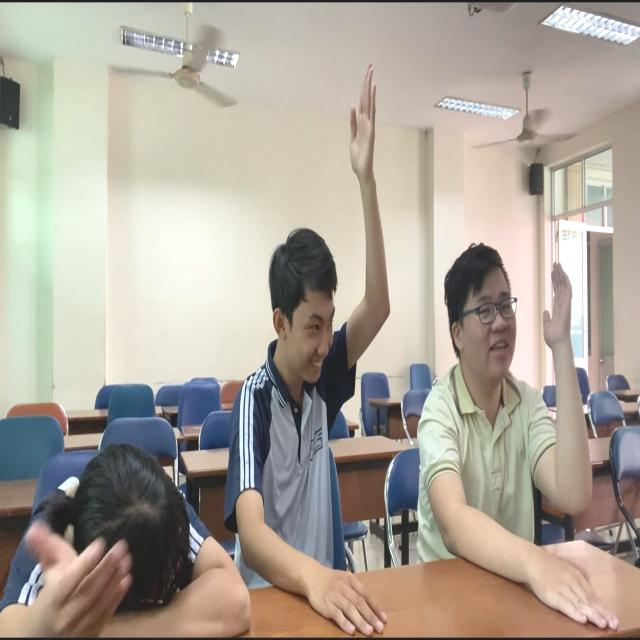raise_hand: (415, 235, 594, 640)
sleep: (3, 401, 255, 640)
